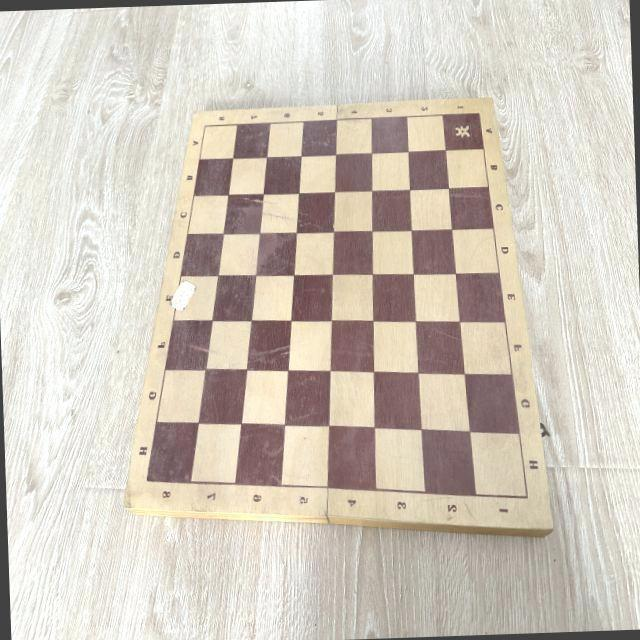chess-table-corners: (140, 472, 154, 488), (521, 488, 534, 505), (200, 120, 209, 131), (474, 108, 483, 118)
